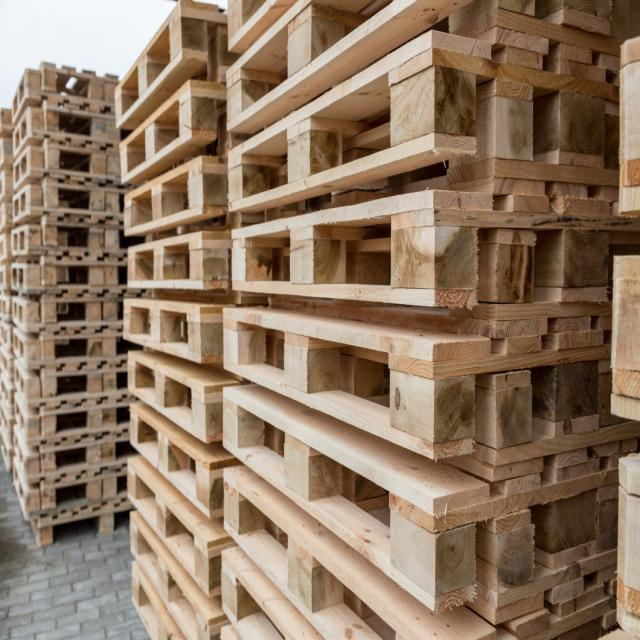Palette: (226, 0, 611, 640), (111, 0, 223, 640), (0, 45, 132, 538), (617, 29, 640, 640)
